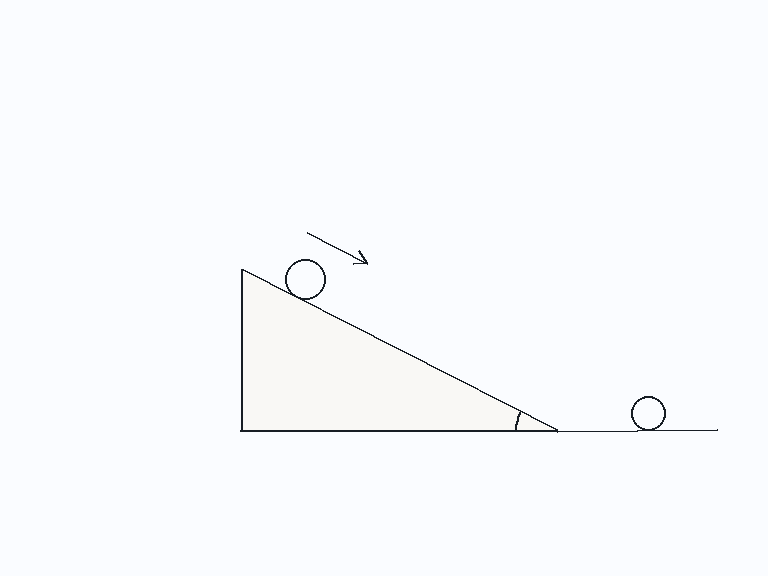ball: (283, 257, 327, 301), (629, 394, 667, 432)
ramp: (239, 268, 558, 432)
